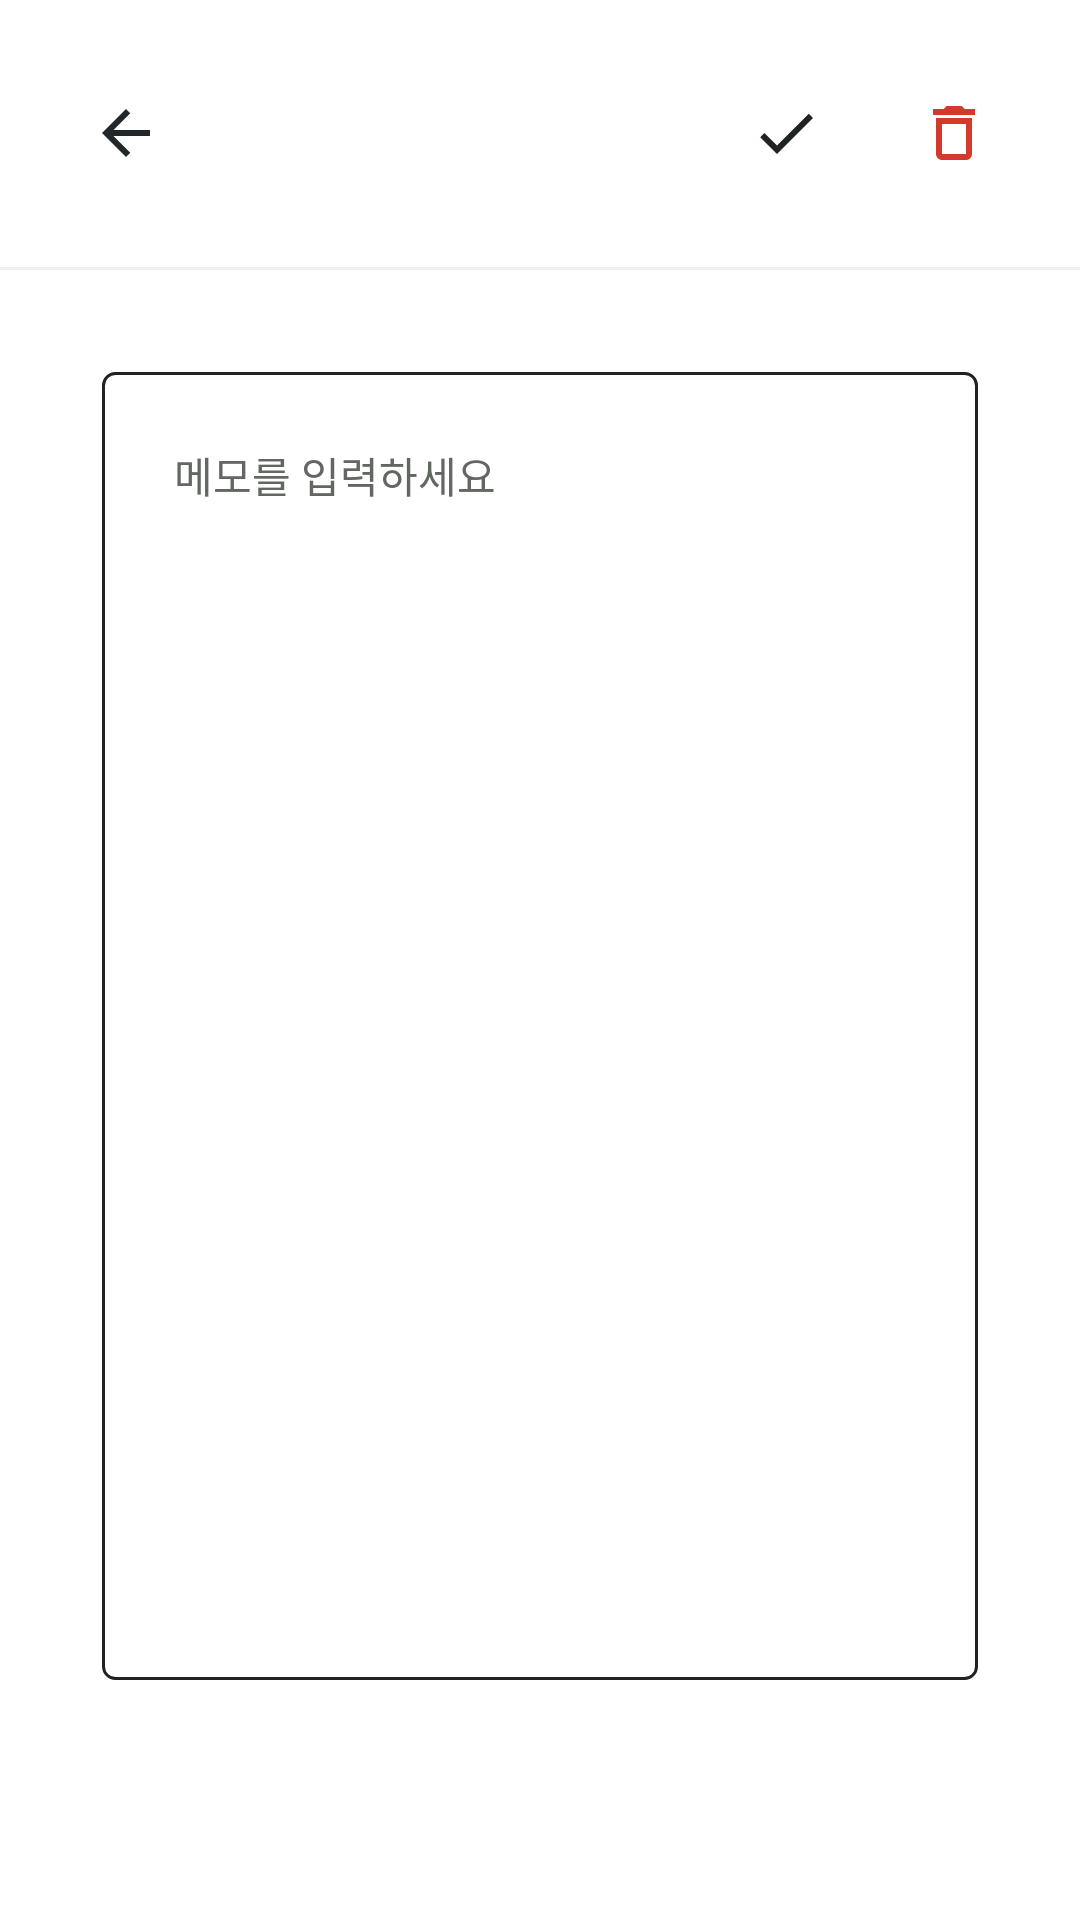

Icons on this 1080w x 1920h Android screen, each with its box as Rect(x1, y1, x2, y2):
뒤로가기: Rect(102, 109, 150, 157)
삭제: Rect(933, 106, 975, 160)
저장: Rect(760, 114, 813, 154)
